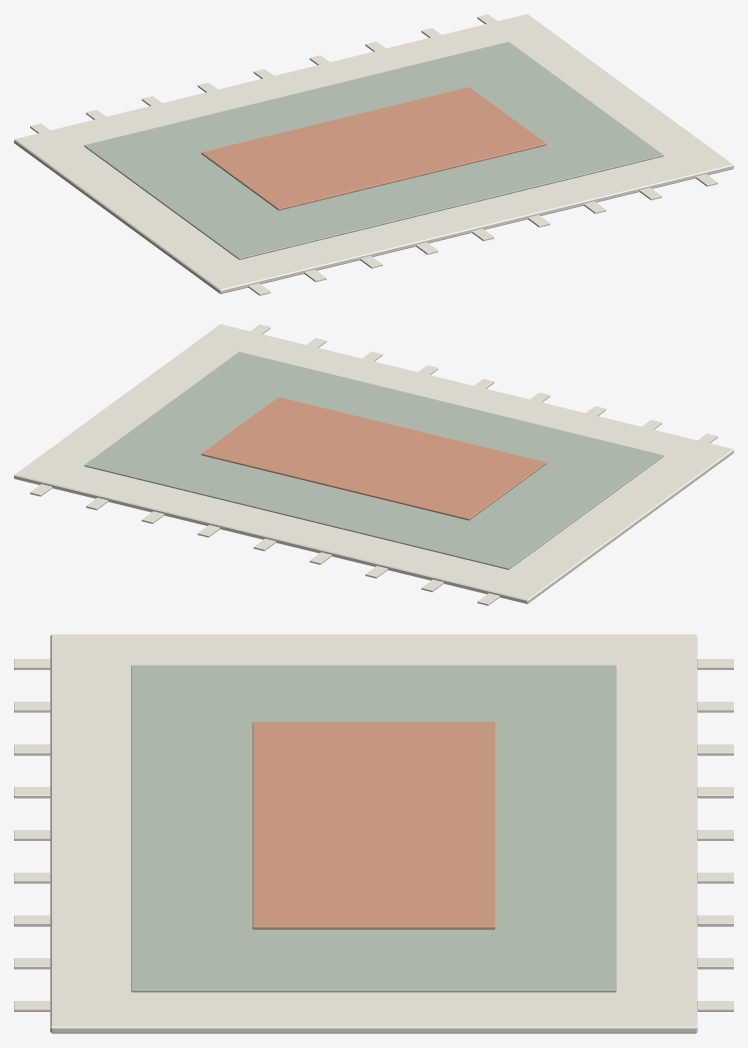
Rendered from model-lounge-furniture-rug-cacd741f1542.glb.
3 renders of one model, top to bottom at view 1: azimuth 30°, elevation 25°; view 2: azimuth 150°, elevation 25°; view 3: azimuth 270°, elevation 25°, orthographic. The views are drawn at different scales.
Visible parts, largest first — view 1: rug-wool-large; view 2: rug-wool-large; view 3: rug-wool-large.
Boxes of the visible parts, bbox=[...] form: rug-wool-large: bbox=[14, 14, 733, 295]; rug-wool-large: bbox=[14, 324, 733, 605]; rug-wool-large: bbox=[14, 634, 733, 1033].
Bounding box in the file's own units: 2.3 × 0.0369 × 1.78.
